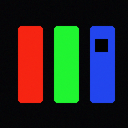1 square: (95, 39, 107, 51)
